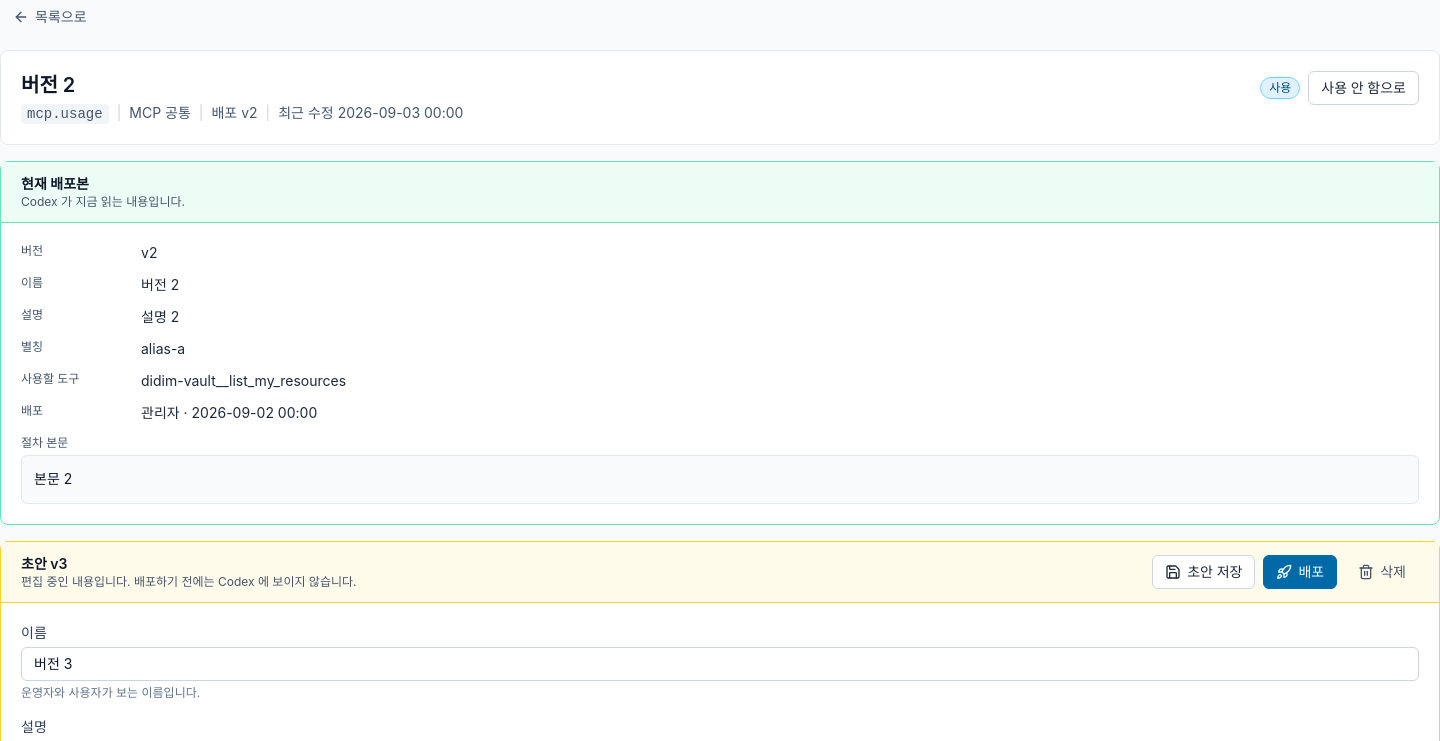
Scenario: 스킬 상세 › 배포 전에 확인 modal 을 띄운다
The image size is (1440, 741).
Expected: the heading "현재 배포본" is shown, [21,175,89,192]
Click the button "배포": (1300, 572) [1264,555,1337,589]
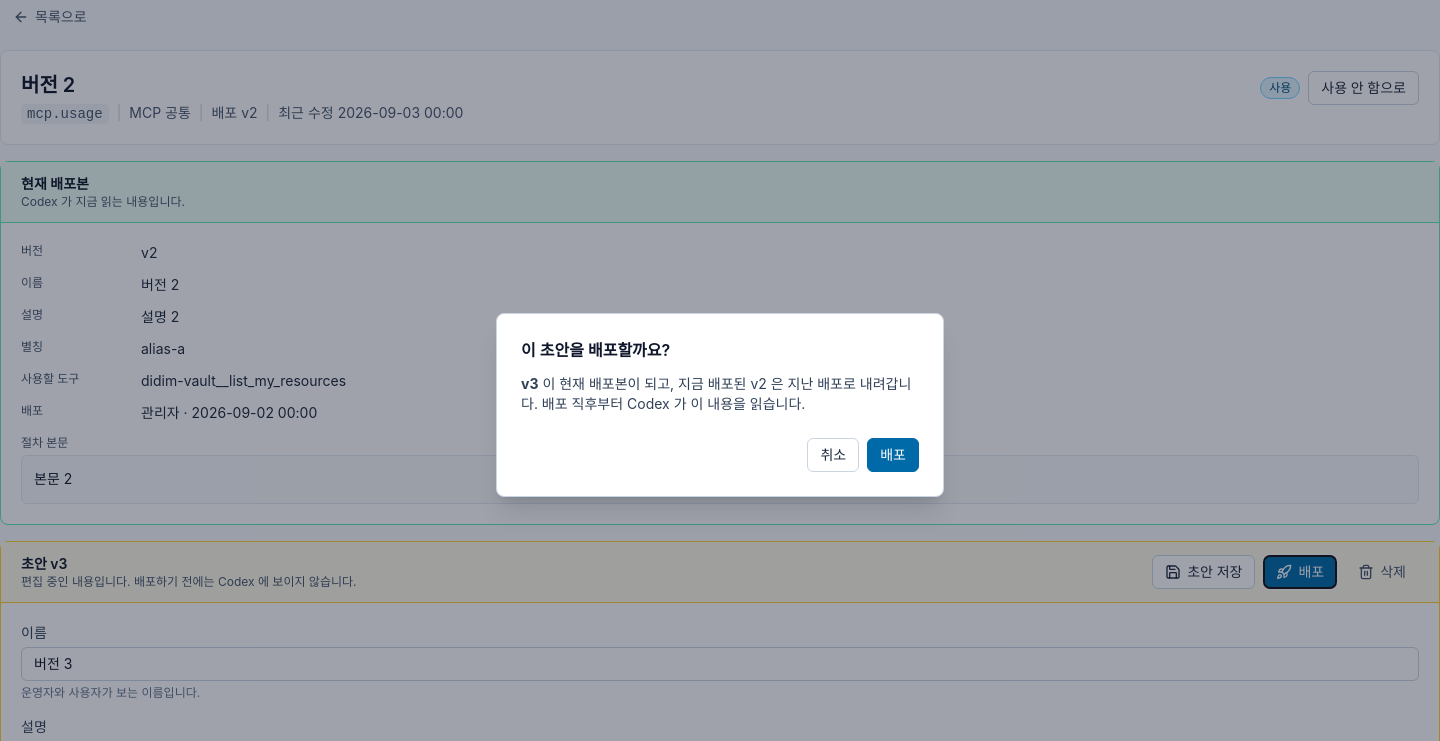
Expected: the heading "이 초안을 배포할까요?" is shown, [521,340,670,360]
